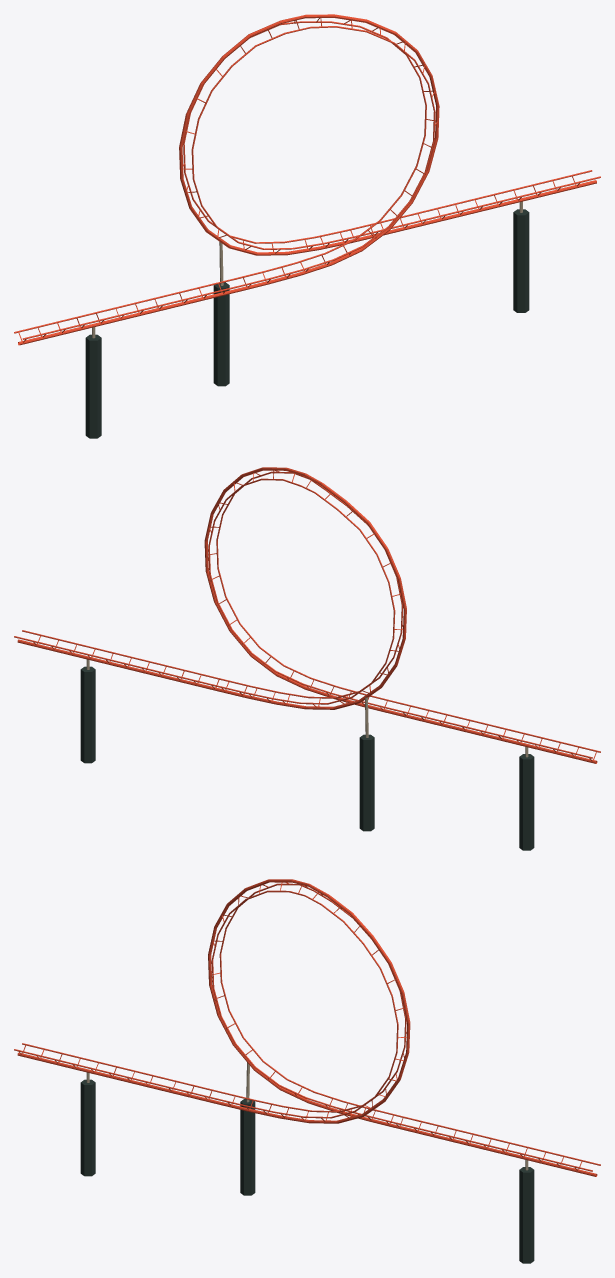
File: RollerCoaster_C.fbx
3 renders of one model, top to bottom at view 1: azimuth 30°, elevation 25°; view 2: azimuth 150°, elevation 25°; view 3: azimuth 330°, elevation 25°, orthographic. The views are drawn at different scales.
Visible parts, largest first — view 1: RollerCoaster_C; view 2: RollerCoaster_C; view 3: RollerCoaster_C.
Part boxes in pixels (x1=…): RollerCoaster_C: x1=14, y1=14, x2=600, y2=438; RollerCoaster_C: x1=14, y1=467, x2=600, y2=850; RollerCoaster_C: x1=14, y1=879, x2=600, y2=1263.
Bounding box in the file's own units: 1600 × 910 × 144.
